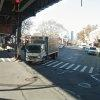Crosswalk: (48, 52, 100, 77)
